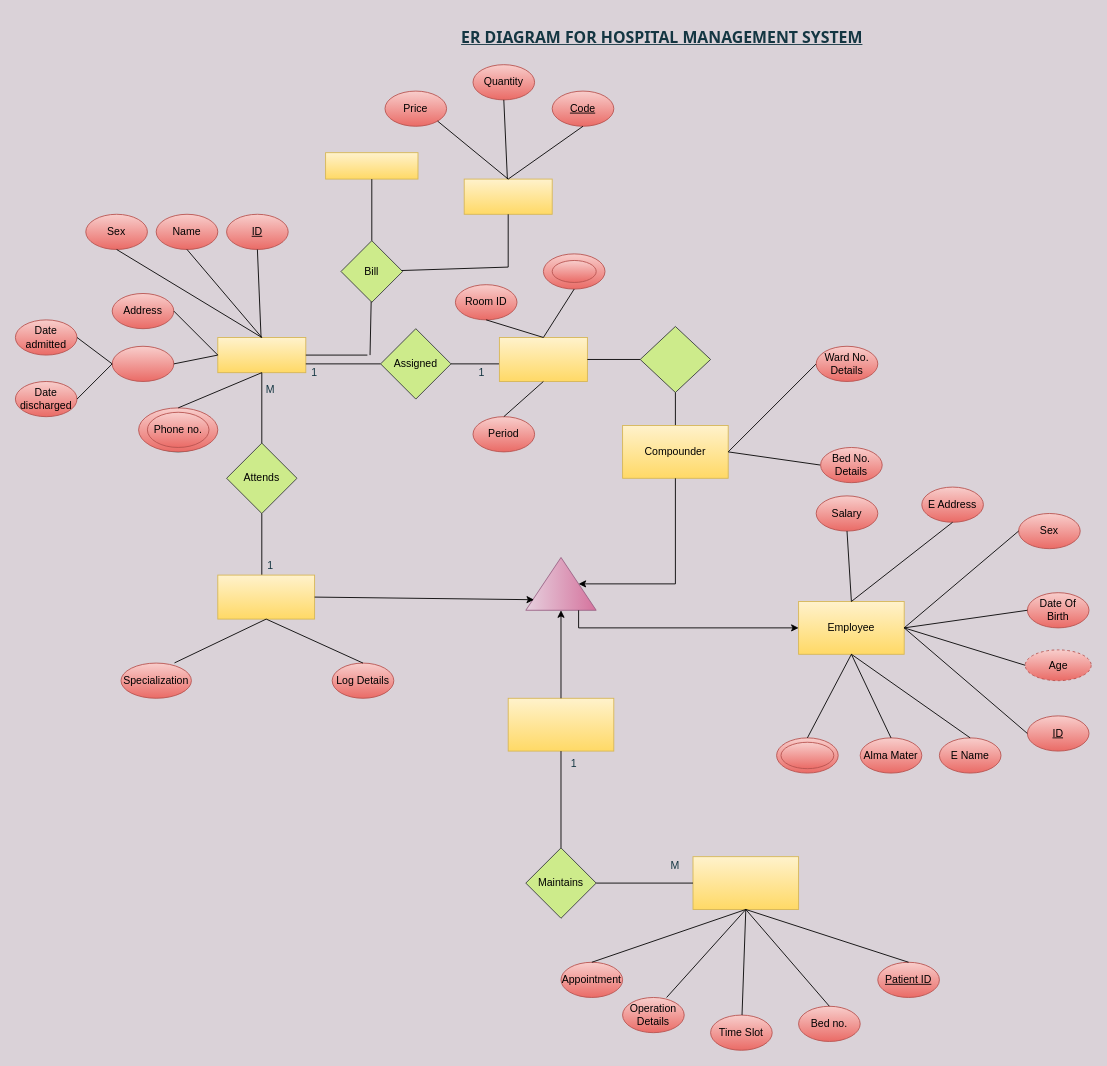
The diagram is 1107 pixels wide and 1066 high, and some of its shapes have lost their labels. Each missing label, with the box of its shape:
Contact No.: (780, 741, 834, 769)
Doctor: (217, 574, 315, 619)
Governs: (639, 326, 711, 392)
IS A: (525, 557, 596, 610)
Medicine: (463, 178, 552, 214)
P details: (111, 345, 174, 381)
Patient: (217, 337, 306, 373)
Receptionist: (507, 697, 614, 751)
Record: (692, 856, 799, 909)
Rooms: (499, 337, 587, 381)
Treatment: (325, 152, 418, 179)
Type: (551, 260, 596, 282)
